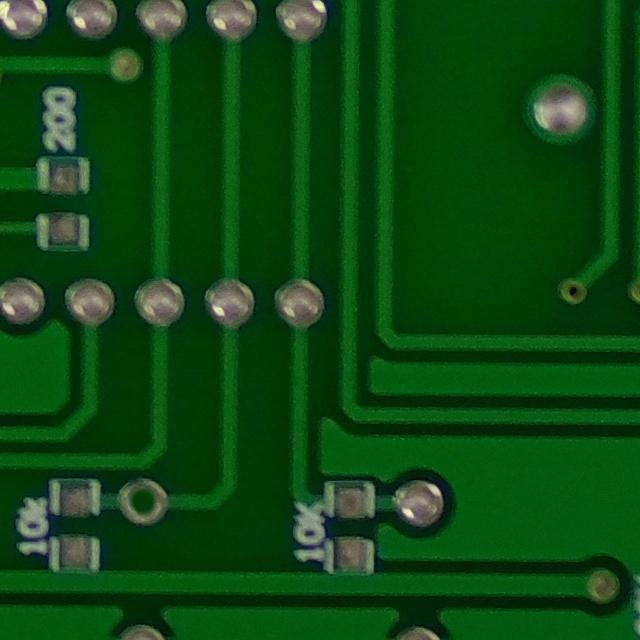missing_hole: (113, 476, 170, 532)
